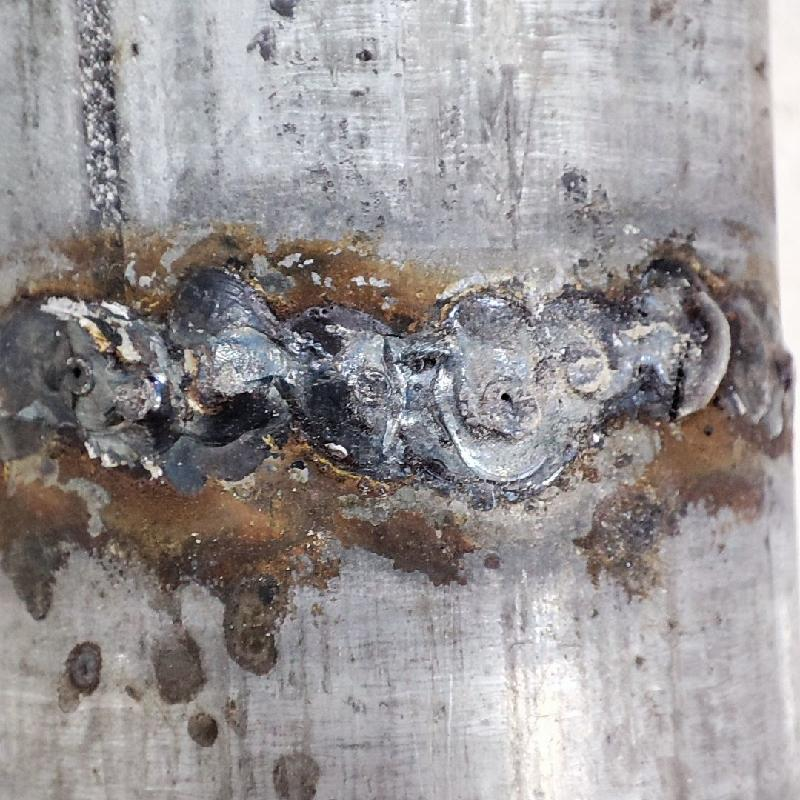Not_fully_soldered: (435, 270, 663, 483)
Surface_pores: (53, 340, 101, 401), (488, 375, 528, 426)
wrong_size: (1, 272, 431, 486), (676, 272, 799, 445)
